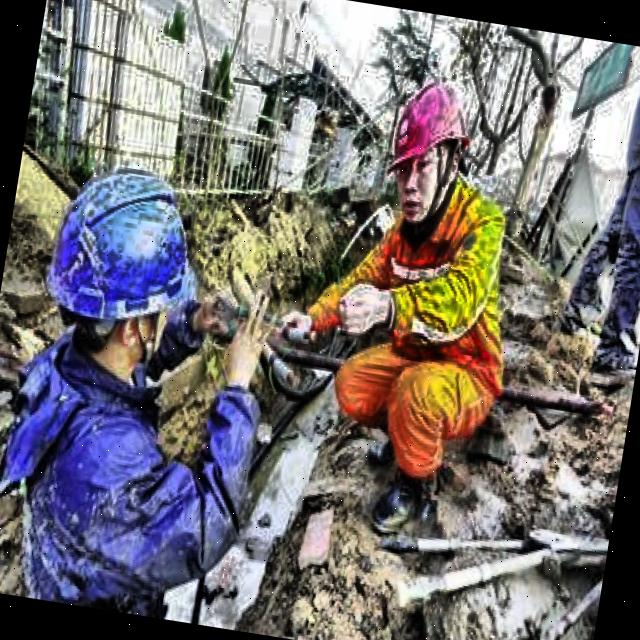helmet: (18, 128, 220, 396), (369, 61, 486, 242)
